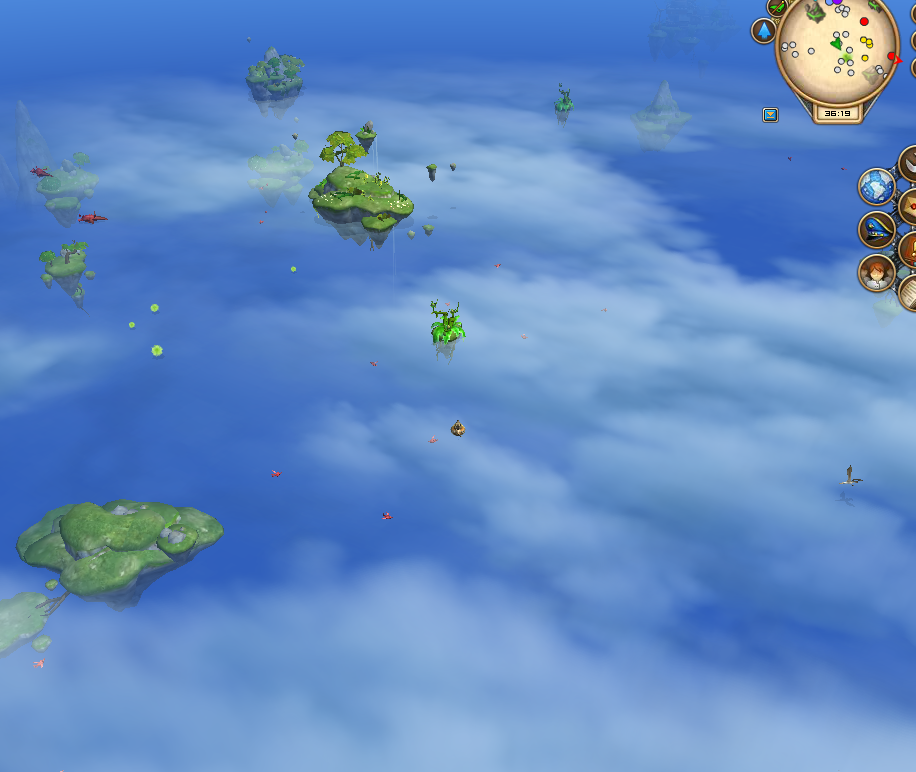dandelion-empty: (424, 292, 467, 361), (551, 78, 576, 123)
fluff: (149, 342, 166, 361), (147, 301, 161, 315), (287, 262, 299, 276), (126, 319, 138, 331)
